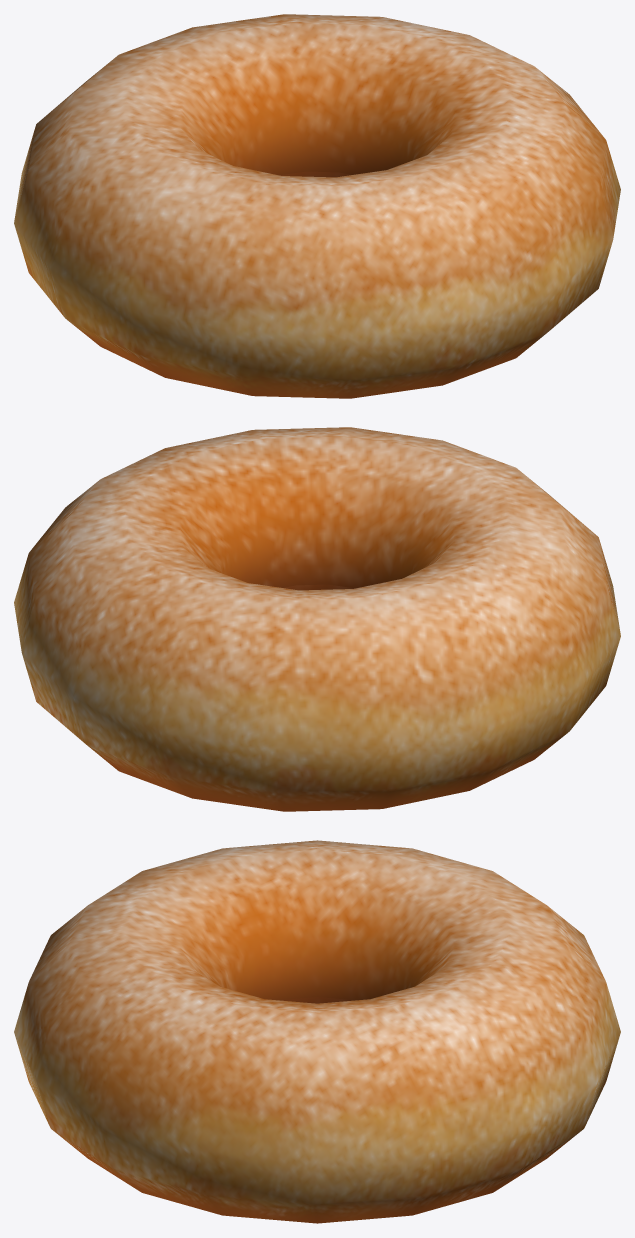
The model's file is 007-Donut_02.FBX.
3 views of the same model, one above another, from view 1: azimuth 30°, elevation 25°; view 2: azimuth 150°, elevation 25°; view 3: azimuth 270°, elevation 25° (orthographic).
Parts seen in each view (by area): view 1: 007-Donut_02; view 2: 007-Donut_02; view 3: 007-Donut_02.
Part boxes in pixels (x1=…): 007-Donut_02: x1=14, y1=14, x2=620, y2=398; 007-Donut_02: x1=14, y1=427, x2=620, y2=811; 007-Donut_02: x1=14, y1=840, x2=620, y2=1223.
Size of the model in its own units: 15.88 by 5.77 by 15.88.
